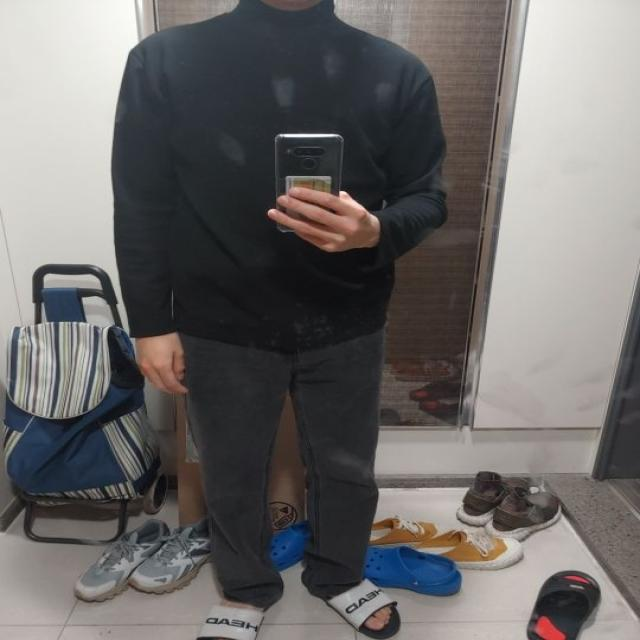denimpants: (178, 317, 383, 604)
longsleeve: (114, 5, 451, 346)
